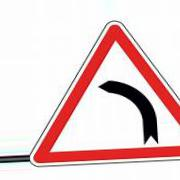left: (30, 21, 180, 167)
